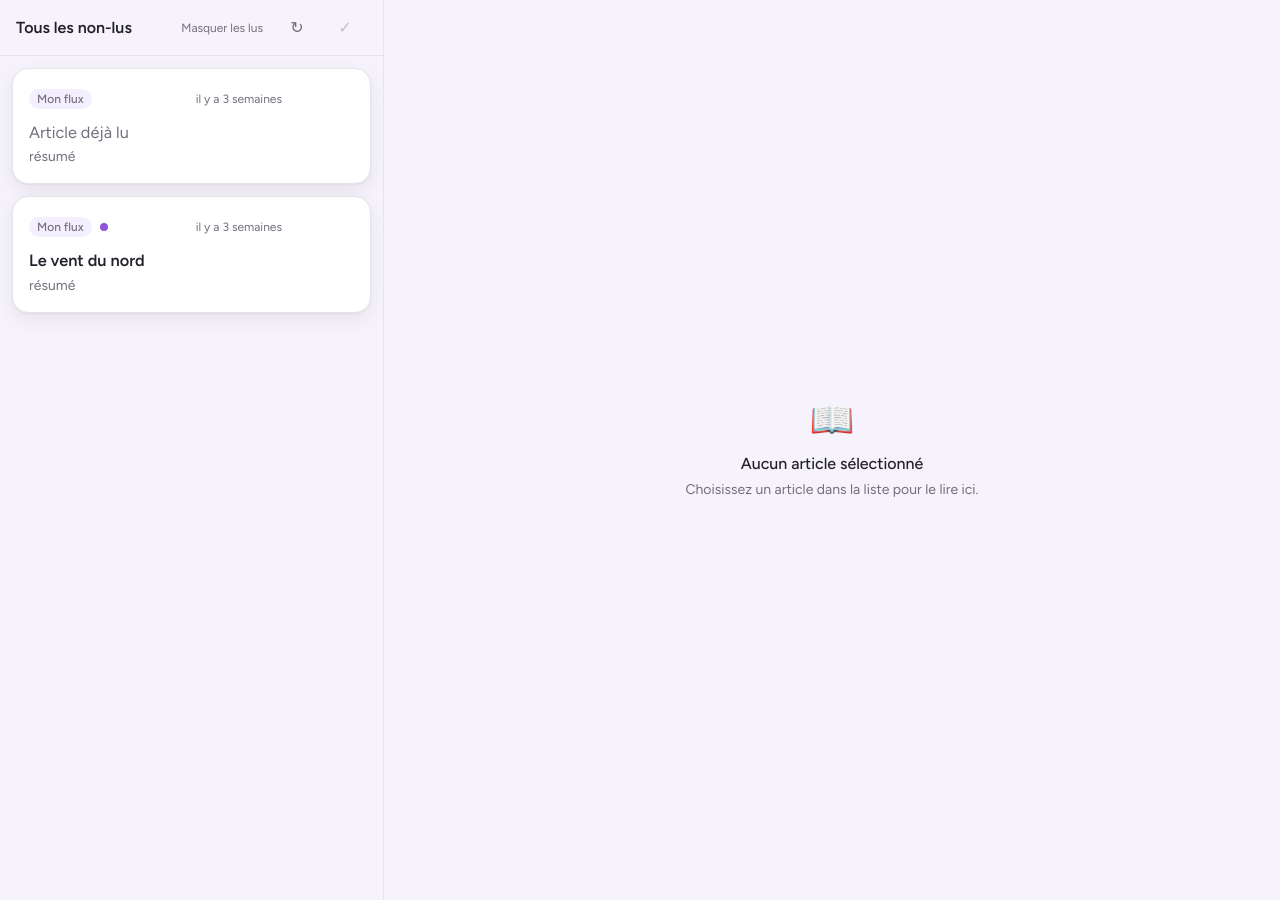
Test: Vue « Tous les non-lus » — lecture du réplica local (#72) › s'affiche hors-ligne (apiFetch en échec) en lisant le réplica
Click the switch: click(222, 28) [173,16,271,40]
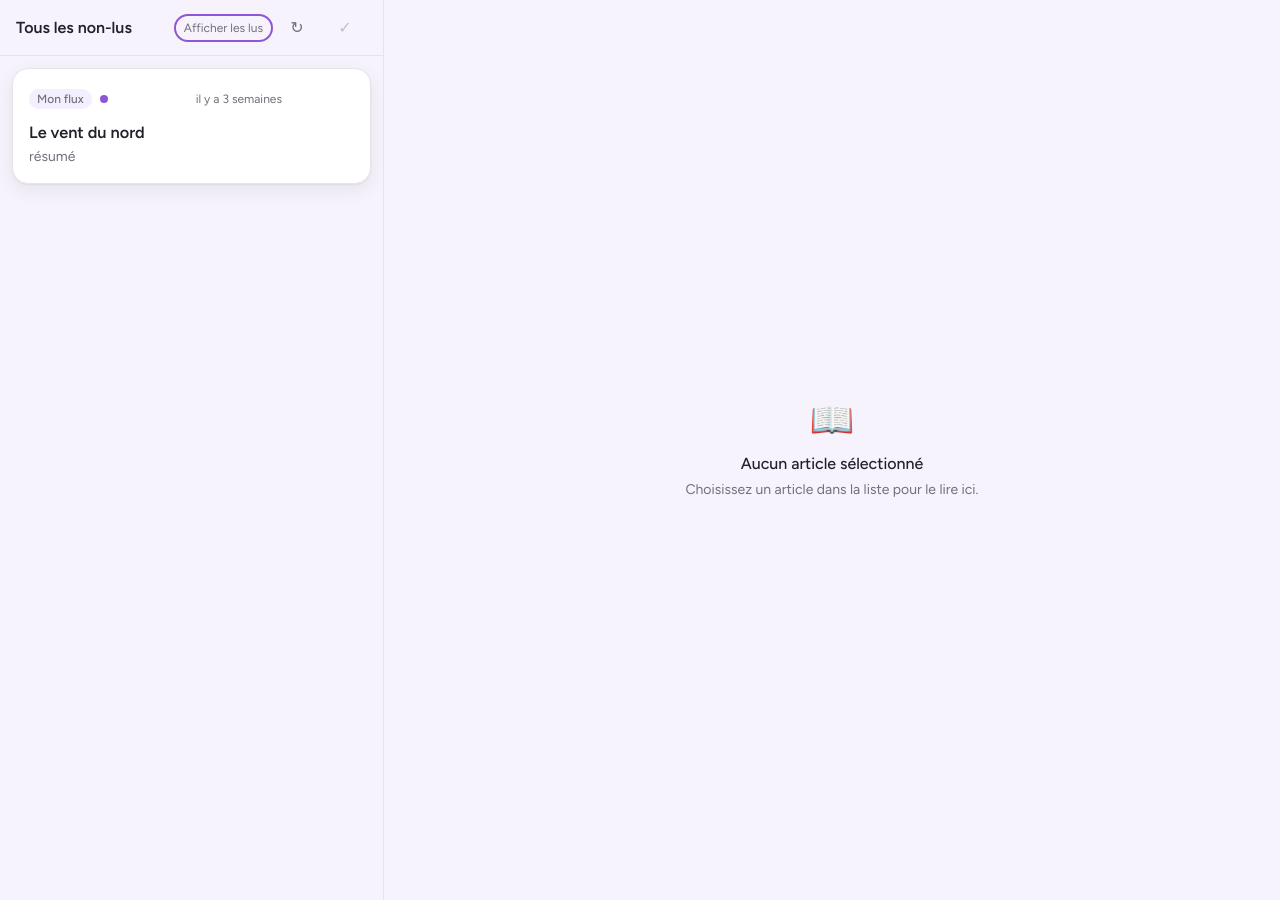
Expected: the heading "Le vent du nord" is shown, [29,122,145,142]
Now the heading "Article déjà lu" is gone
